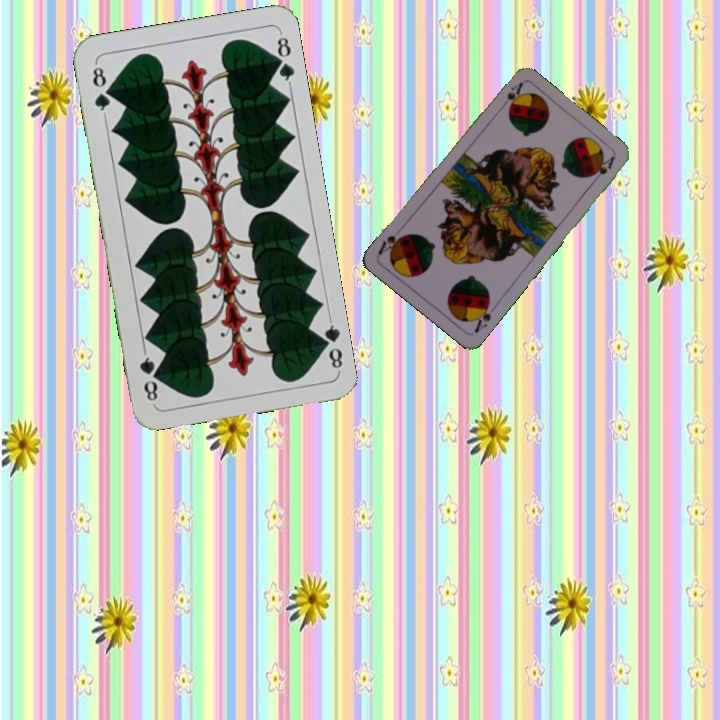G8: (314, 315, 345, 374), (88, 60, 114, 118)
SA: (469, 297, 499, 336), (495, 79, 525, 113)
